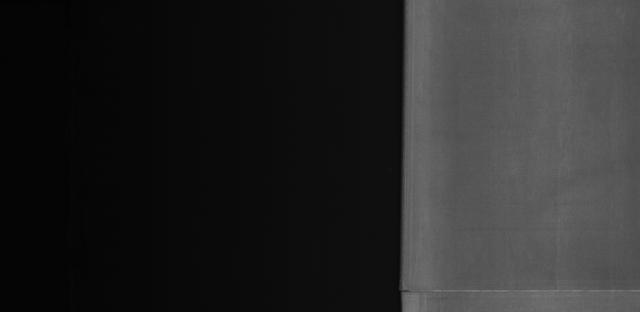welding_line: (383, 276, 640, 303)
